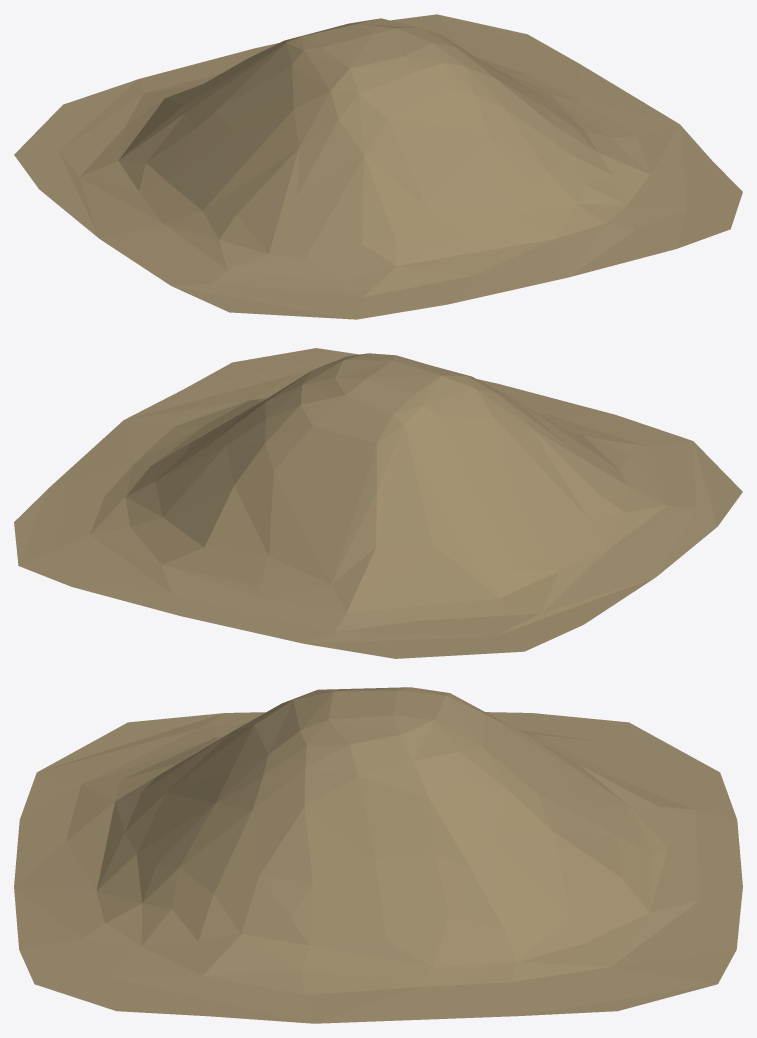
Rendered from SM_Env_Beach_02.glb.
3 views of the same model, one above another, from view 1: azimuth 30°, elevation 25°; view 2: azimuth 150°, elevation 25°; view 3: azimuth 270°, elevation 25° (orthographic). The views are drawn at different scales.
Parts seen in each view (by area): view 1: SM_Env_Beach_02; view 2: SM_Env_Beach_02; view 3: SM_Env_Beach_02.
Part boxes in pixels (x1=…): SM_Env_Beach_02: x1=14, y1=14, x2=742, y2=319; SM_Env_Beach_02: x1=14, y1=348, x2=742, y2=658; SM_Env_Beach_02: x1=14, y1=687, x2=742, y2=1023.
Bounding box in the file's own units: 0.1418 × 0.0323 × 0.1392.
